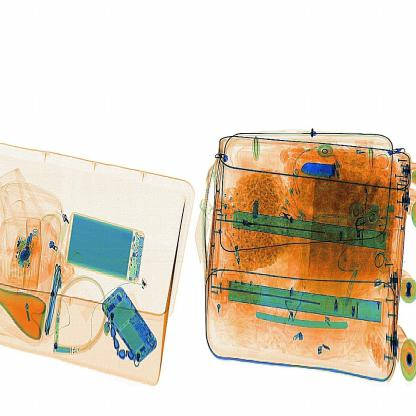wrench: (296, 156, 342, 182)
